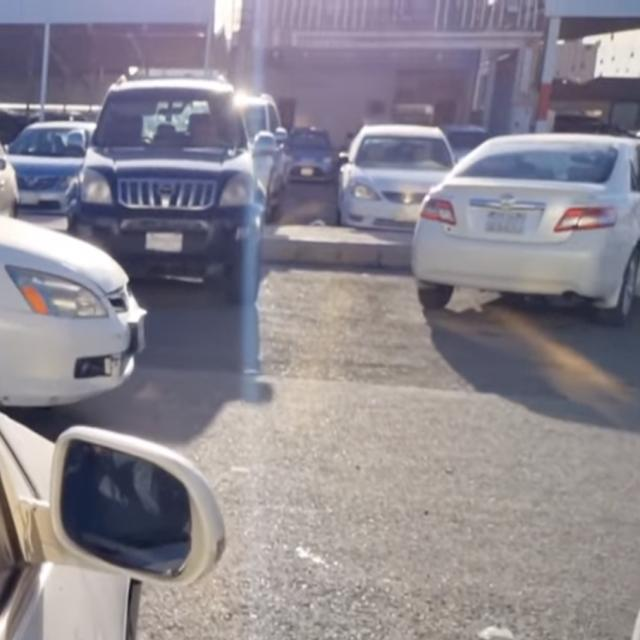license_plate: (485, 209, 529, 234), (142, 232, 184, 254), (393, 212, 421, 222), (19, 193, 39, 204), (301, 168, 314, 177)
